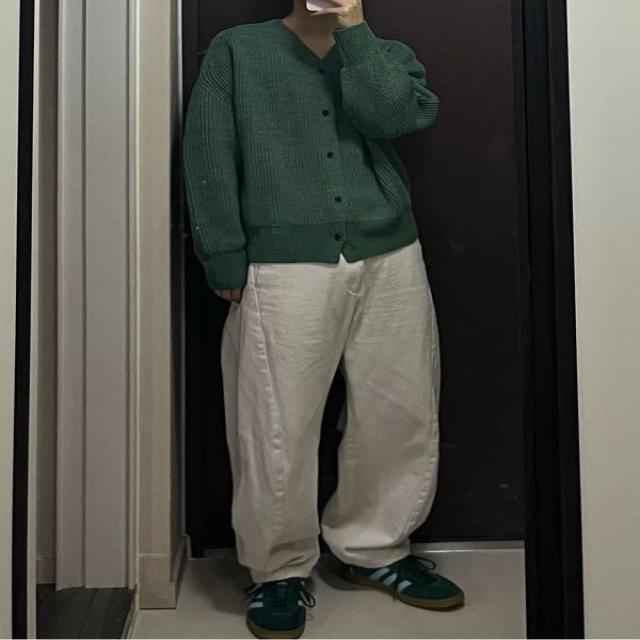cardigan: (175, 17, 445, 296)
cottonpants: (218, 242, 444, 582)
